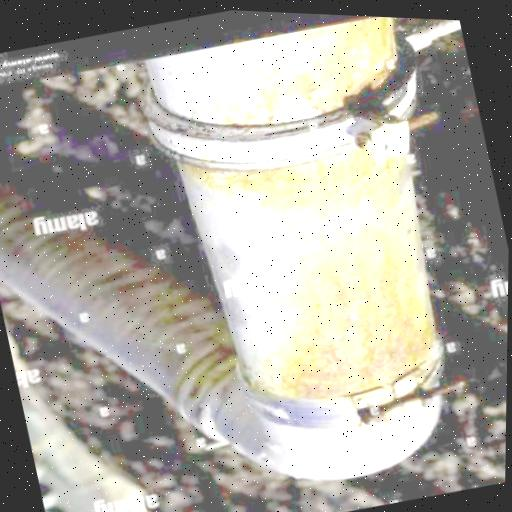corrosion: (178, 103, 459, 424)
